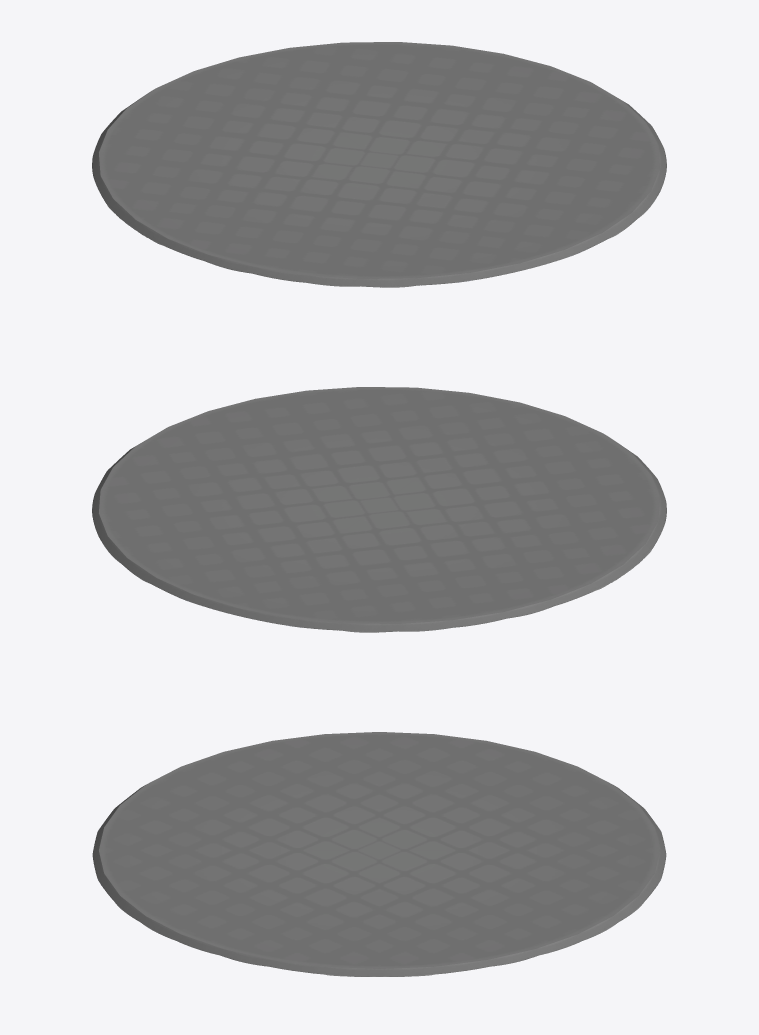
Rendered from pref_fx_NeutralScoreArea03_purple_floor_lv2.fbx.
3 views of the same model, one above another, from view 1: azimuth 30°, elevation 25°; view 2: azimuth 150°, elevation 25°; view 3: azimuth 270°, elevation 25° (orthographic).
Visible parts, largest first — view 1: sm_prop_platform06a_lv2; view 2: sm_prop_platform06a_lv2; view 3: sm_prop_platform06a_lv2.
Boxes of the visible parts, x1,y1,x2,y2 form: sm_prop_platform06a_lv2: (92, 42, 666, 287); sm_prop_platform06a_lv2: (92, 387, 666, 632); sm_prop_platform06a_lv2: (92, 732, 666, 976).
Size of the model in its own units: 7.46 by 0.2009 by 7.46.
